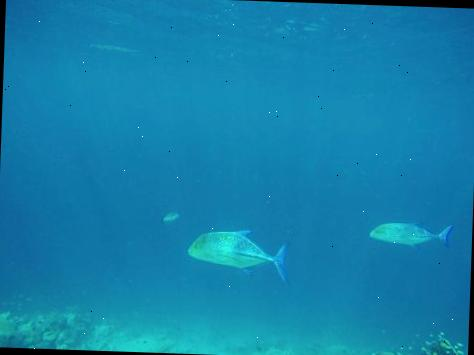fish: (188, 225, 289, 280), (369, 221, 452, 250), (162, 210, 182, 223)
